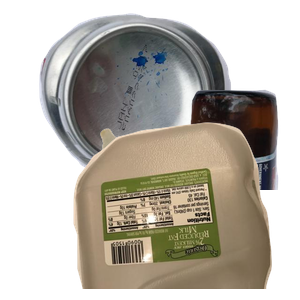glass: (87, 87, 300, 267)
metal: (37, 11, 261, 180)
plastic: (71, 120, 300, 300)
trash: (84, 126, 291, 300)
